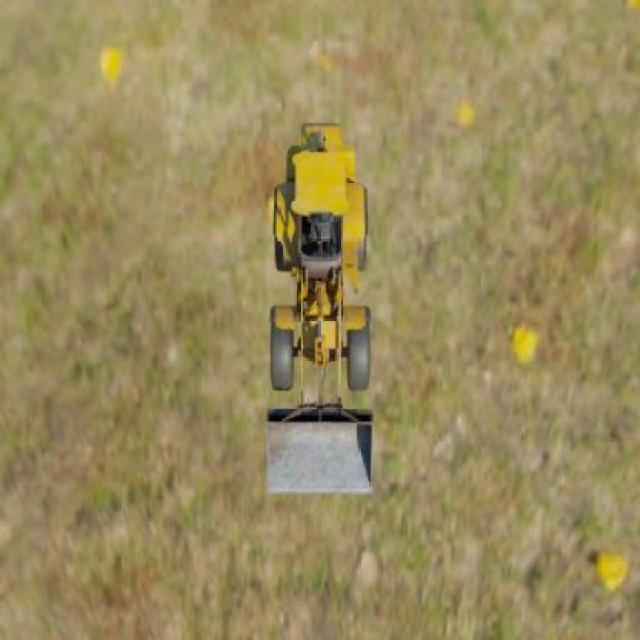buldozerpayloadergrader: (270, 117, 378, 500)
